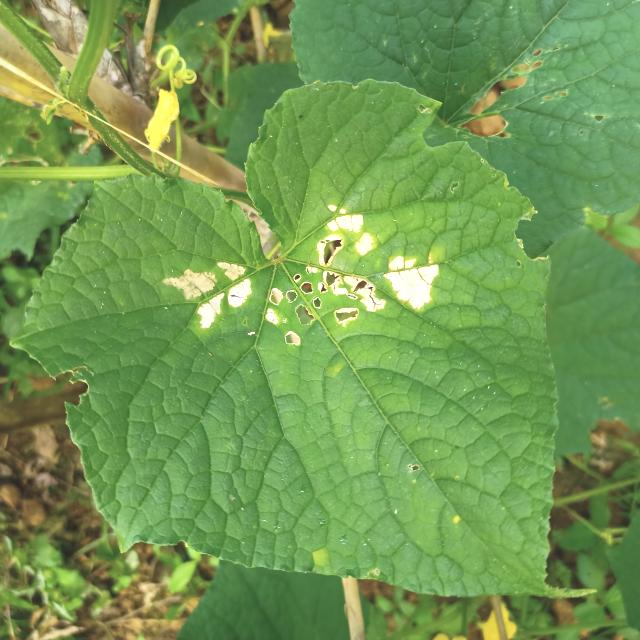disease_cucumber: (266, 198, 444, 350), (157, 245, 260, 338)
